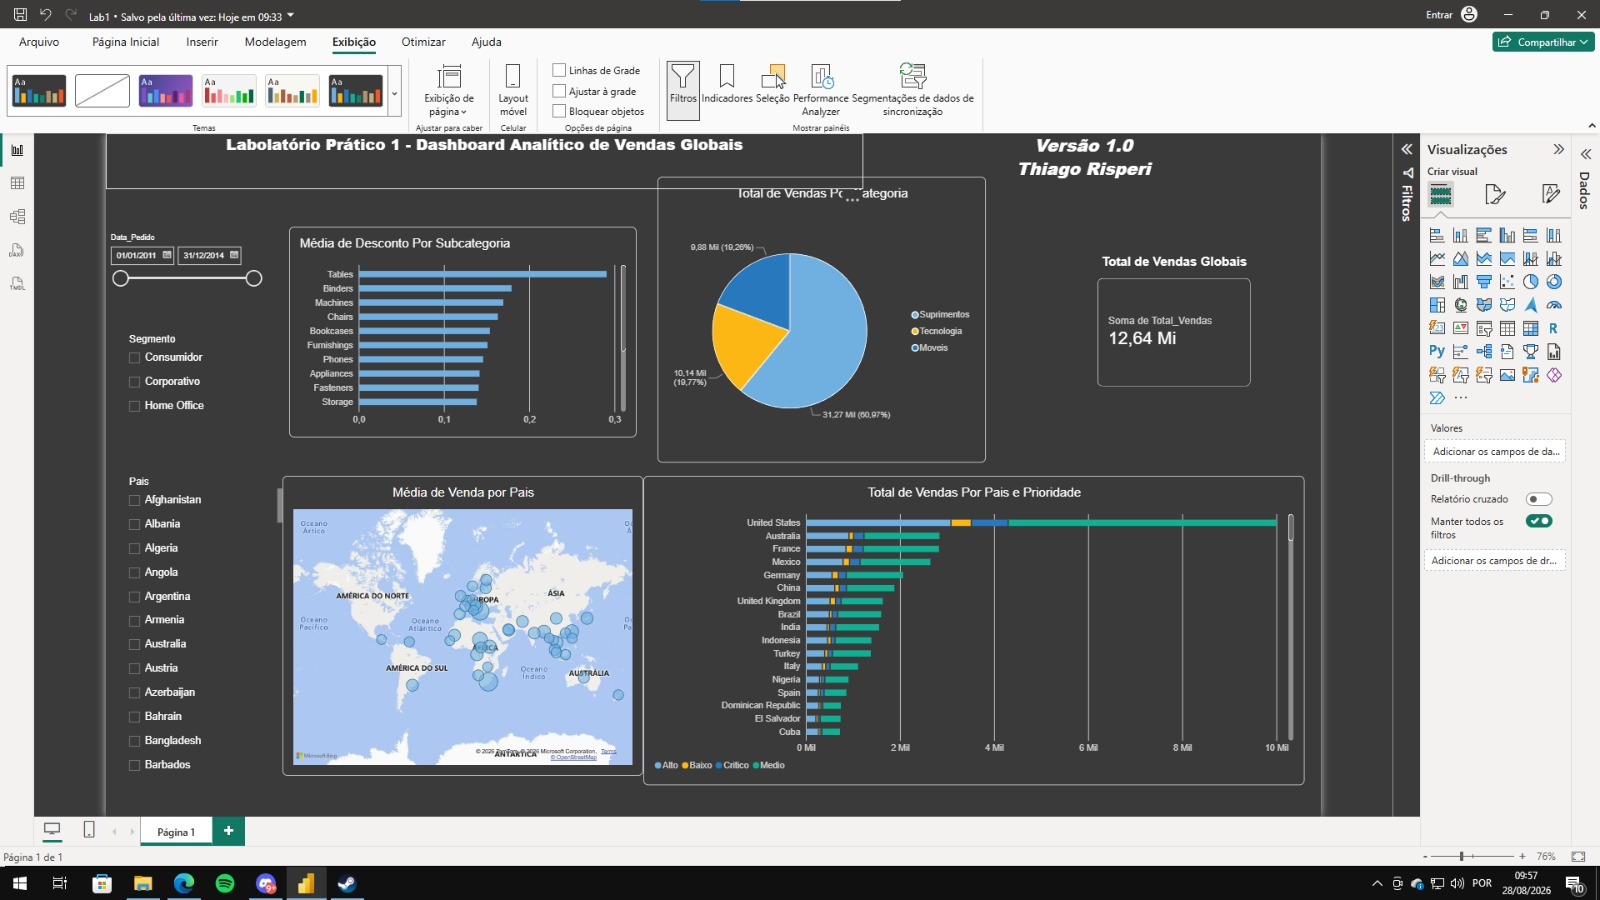

The page's visual inventory and layout, read from the dashboard file:
{"tool":"powerbi","page":{"name":"Página 1","canvas":[1920,1080],"ordinal":0},"visuals":[{"type":"cardVisual","title":"Total de Vendas Globais","fields":{"Data":["Sum(dataset.Total_Vendas)"]},"box":[1567.3,191,242.9,209.2],"z":0},{"type":"pieChart","title":"Total de Vendas Por Categoria","fields":{"Category":["dataset.Categoria"],"Y":["CountNonNull(dataset.ID_Pedido)"]},"box":[871.9,68.5,518.9,451.8],"z":1000},{"type":"barChart","title":"Total de Vendas Por Pais e Prioridade","fields":{"Category":["dataset.Pais"],"Series":["dataset.Prioridade"],"Y":["CountNonNull(dataset.ID_Pedido)"]},"box":[849.7,540.7,1044.6,489.2],"z":1001},{"type":"map","title":"Média de Venda por Pais","fields":{"Category":["dataset.Pais"],"Size":["Avg(dataset.Total_Vendas)"]},"box":[279.5,540.7,570.1,474.5],"z":1002},{"type":"slicer","fields":{"Values":["dataset.Pais"]},"box":[29.4,540.7,250.1,474.5],"z":1003},{"type":"slicer","fields":{"Values":["dataset.Segmento"]},"box":[29.4,316.3,250.1,165.5],"z":1004},{"type":"slicer","fields":{"Values":["dataset.Data_Pedido"]},"box":[0,158,250.2,135.7],"z":1005},{"type":"barChart","title":"Média de Desconto Por Subcategoria","fields":{"Category":["dataset.SubCategoria"],"Y":["Avg(dataset.Desconto)"]},"box":[289.8,147.5,549.2,333.2],"z":1006},{"type":"textbox","box":[0,0,1197.2,88.2],"z":1007},{"type":"textbox","box":[1195.9,0,698.2,106.1],"z":1008}]}

Visuals, with their boxes on the page's 1920x1080 design canvas (x1, y1, x2, y2). These are canvas units, not pixel positions in the 1600x900 screenshot, which may show the page scaled, cropped or inside an application window:
"Total de Vendas Globais" cardVisual: {"left": 1567, "top": 191, "right": 1810, "bottom": 400}
"Total de Vendas Por Categoria" pieChart: {"left": 872, "top": 68, "right": 1391, "bottom": 520}
"Total de Vendas Por Pais e Prioridade" barChart: {"left": 850, "top": 541, "right": 1894, "bottom": 1030}
"Média de Venda por Pais" map: {"left": 280, "top": 541, "right": 850, "bottom": 1015}
slicer - dataset.Pais: {"left": 29, "top": 541, "right": 280, "bottom": 1015}
slicer - dataset.Segmento: {"left": 29, "top": 316, "right": 280, "bottom": 482}
slicer - dataset.Data_Pedido: {"left": 0, "top": 158, "right": 250, "bottom": 294}
"Média de Desconto Por Subcategoria" barChart: {"left": 290, "top": 148, "right": 839, "bottom": 481}
textbox: {"left": 0, "top": 0, "right": 1197, "bottom": 88}
textbox: {"left": 1196, "top": 0, "right": 1894, "bottom": 106}
